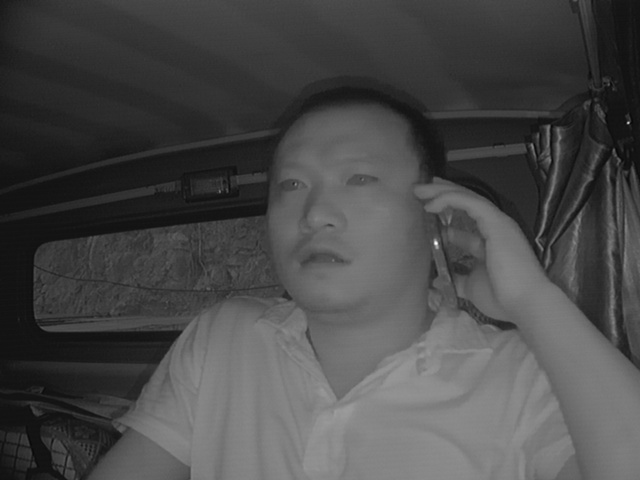hand: (409, 171, 528, 324)
